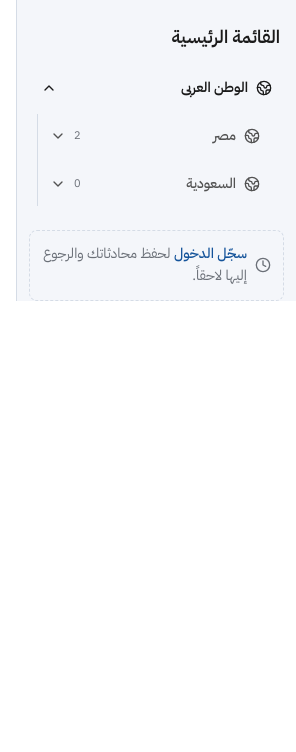
Scenario: MainSidebar › حقل البحث يظهر عند طول القائمة ويصفّى العناصر
Click the button "مصر 2" at [155, 136], box [38,114,272,158]
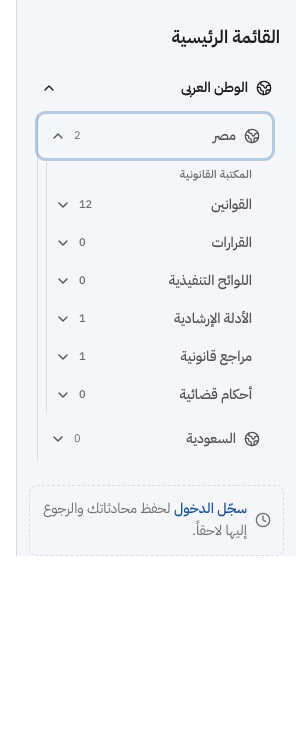
Click the button "القوانين 12" at [154, 205], box [47,187,260,223]
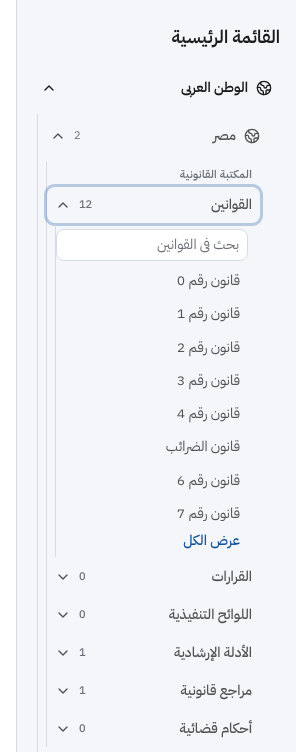
Type "الضرائب" into the search field labelled "بحث فى القوانين" at [152, 245], box [56,229,248,261]
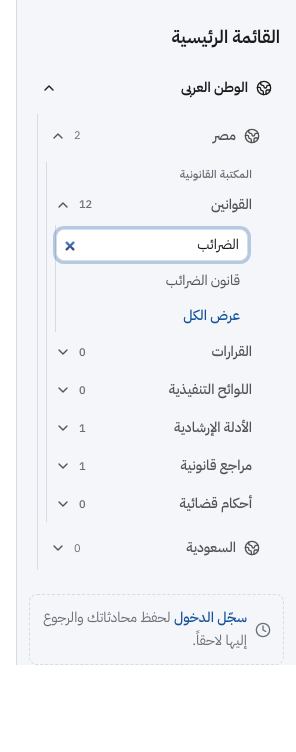
Result: the link "قانون الضرائب" is shown at [166,270,240,291]
Result: the link "قانون رقم 1" is gone
